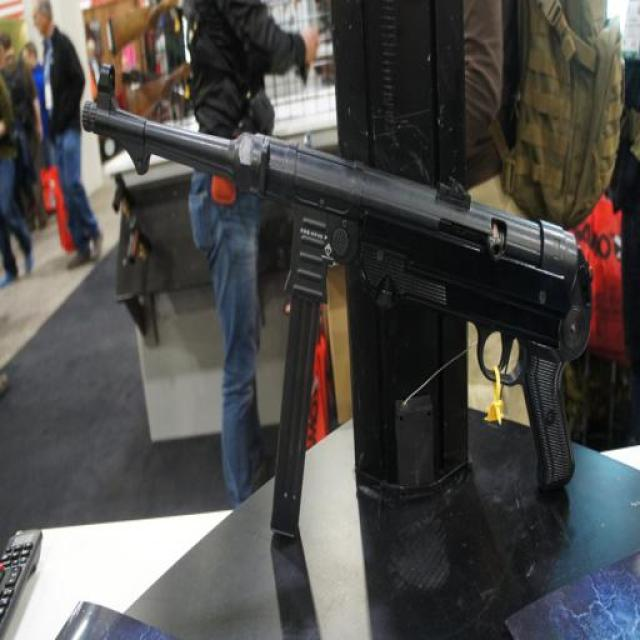pistol: (77, 87, 601, 566)
